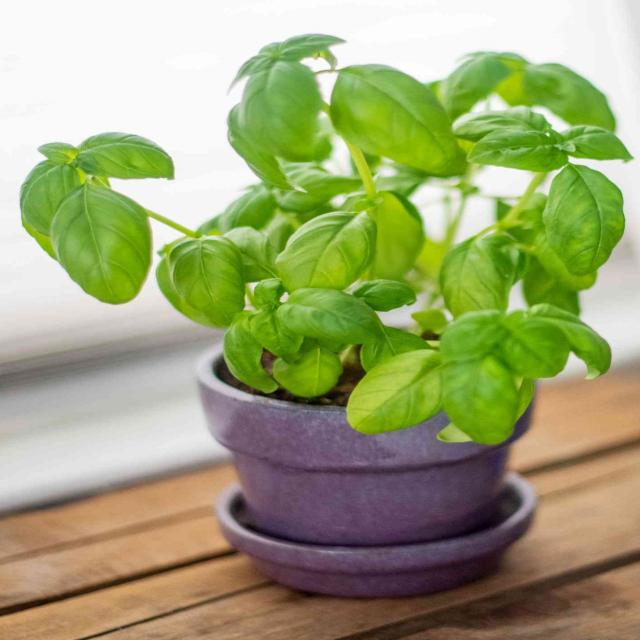Sweet Basil: (19, 27, 640, 445)
